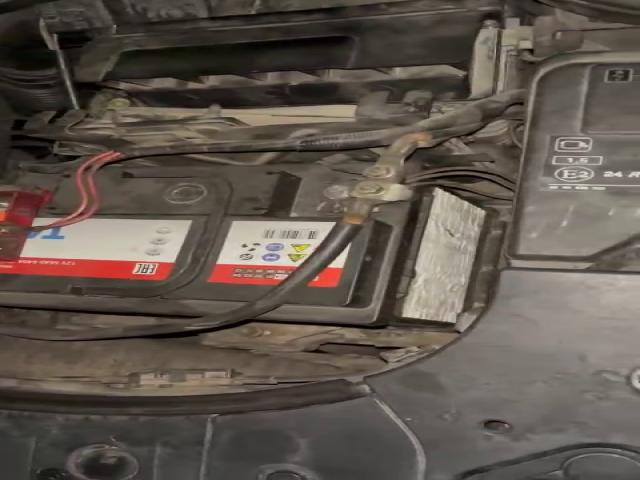accumulator: (1, 161, 507, 329)
fuse_box: (506, 50, 637, 271)
